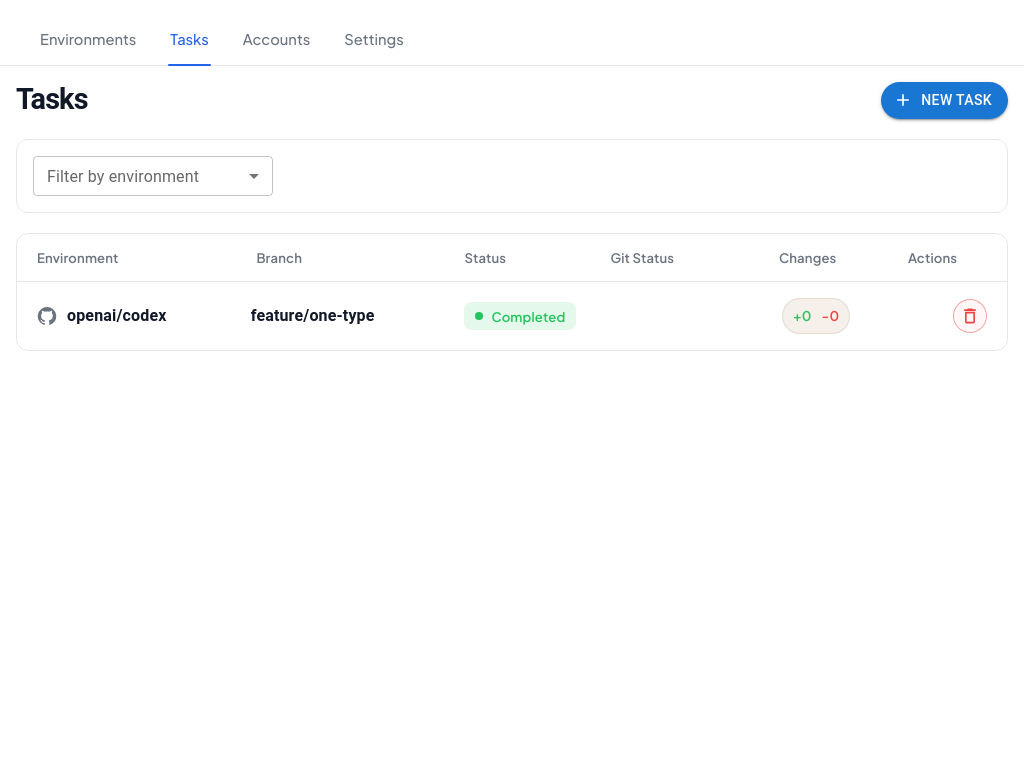
Test: surfaces file artifacts in the artifacts tab
Click the text "feature/one-type" at (313, 316), box [251,306,374,325]
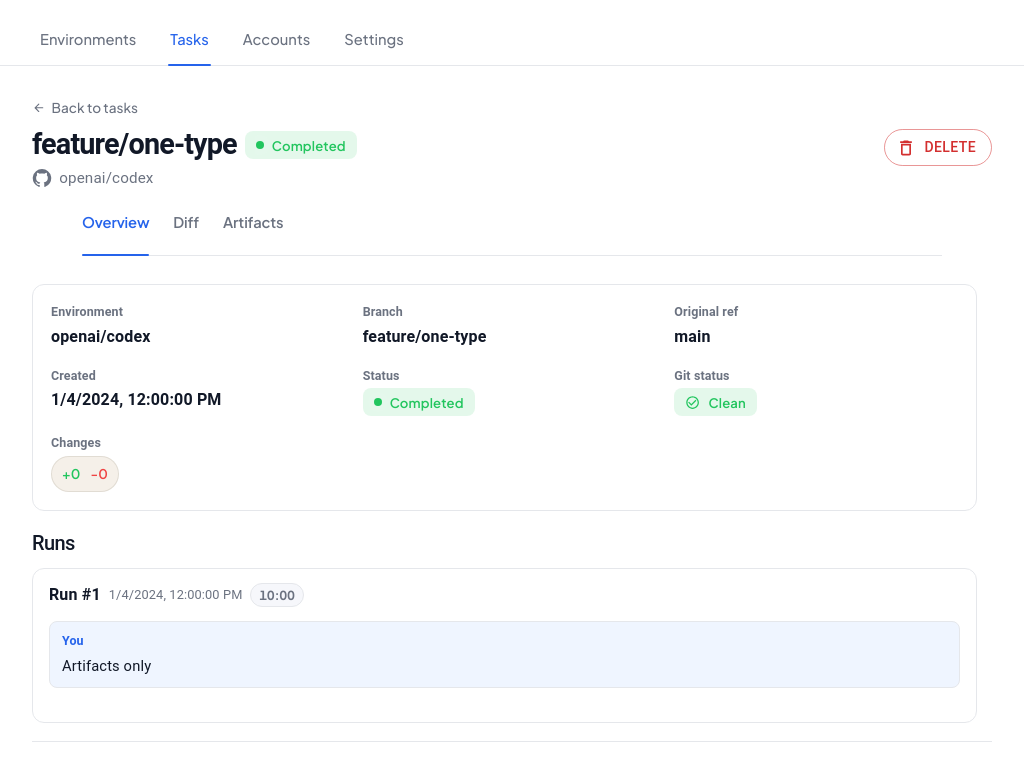
Expected: the button "Artifacts 1" is not shown
Expected: the text "Artifacts only" is shown, [62,657,151,675]
Click the tab "Artifacts" at (253, 227), box [223,211,284,243]
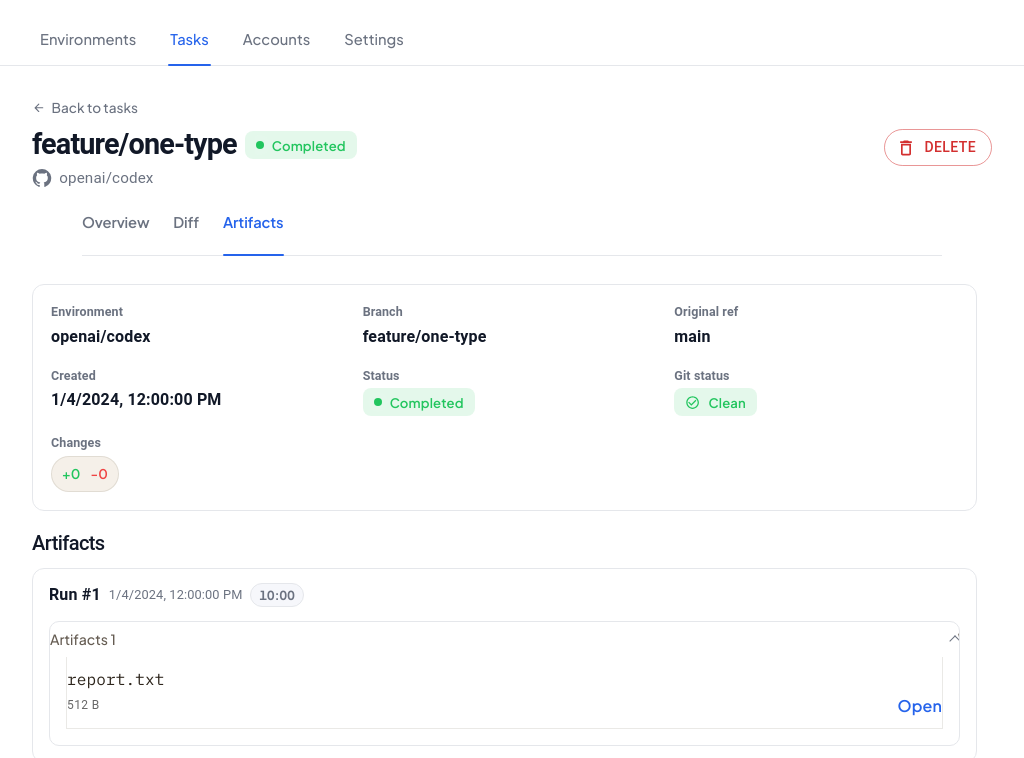
Expected: the button "Artifacts 1" is shown, [50,622,959,657]
Expected: the text "report.txt" is shown, [67,669,164,689]
